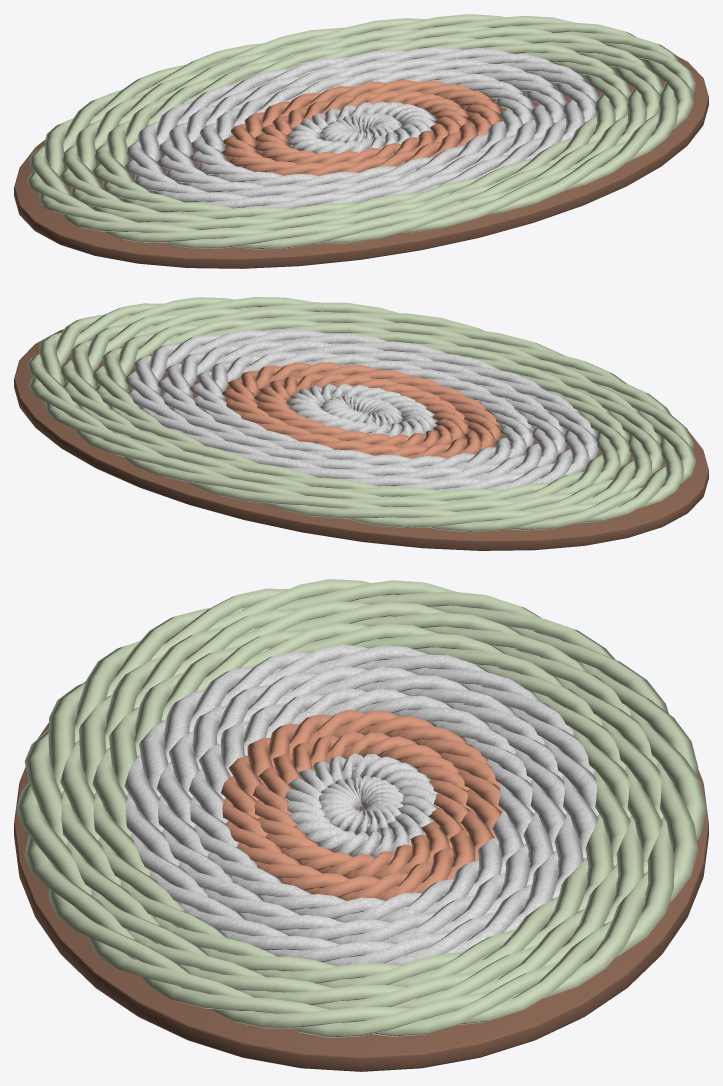
The model's file is braided-rug.glb.
The picture shows the model from 3 angles, top to bottom: view 1: azimuth 30°, elevation 25°; view 2: azimuth 150°, elevation 25°; view 3: azimuth 270°, elevation 25°; orthographic projection. The views are drawn at different scales.
Visible parts, largest first — view 1: catalog_surface_RealismUV; view 2: catalog_surface_RealismUV; view 3: catalog_surface_RealismUV.
Boxes of the visible parts, <box> form: catalog_surface_RealismUV: <box>14,14,708,268</box>; catalog_surface_RealismUV: <box>14,297,708,550</box>; catalog_surface_RealismUV: <box>14,579,708,1071</box>.
Bounding box in the file's own units: 1.6 × 0.068 × 1.
5 materials, 2 textured.
